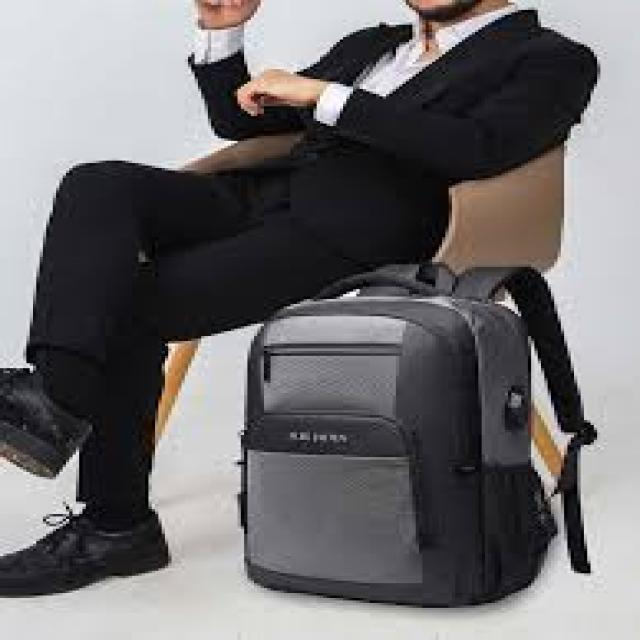backpack: (235, 260, 598, 609)
